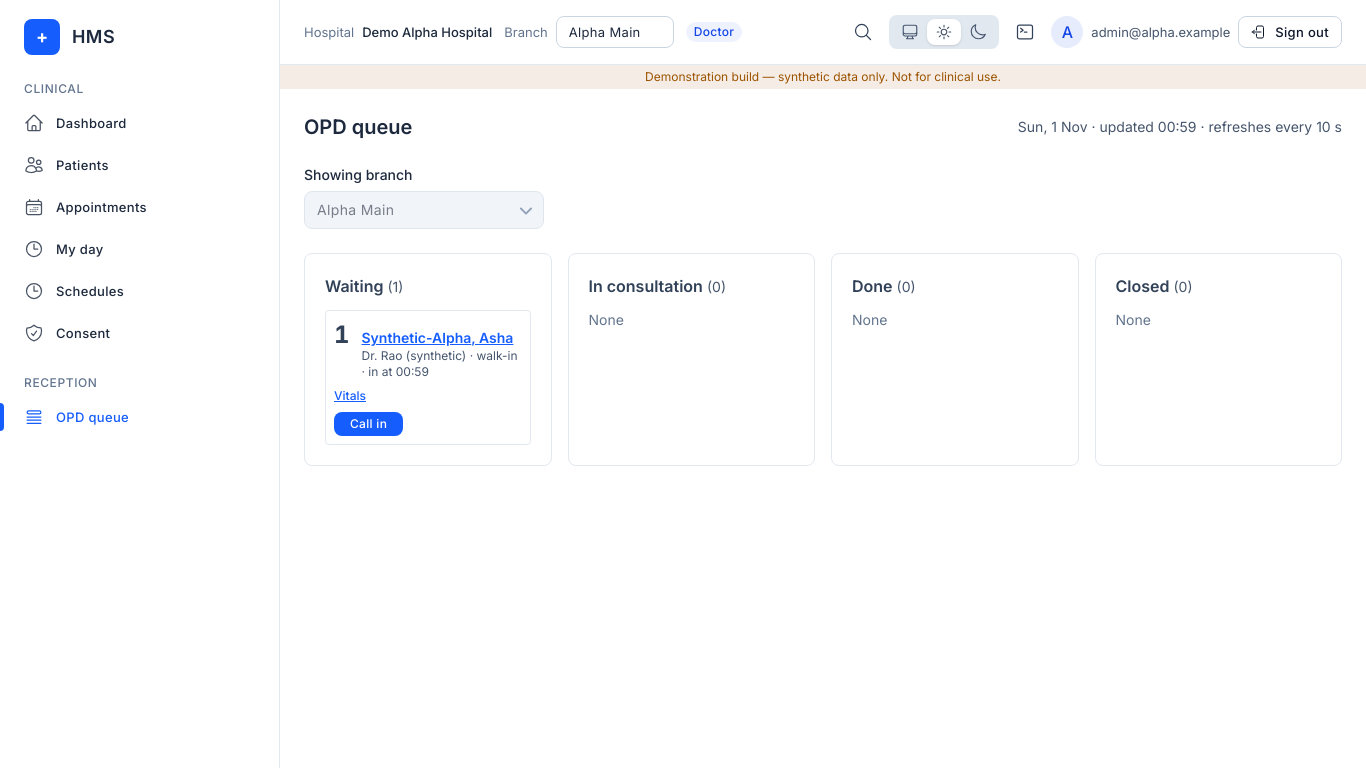
Scenario: queue board: optimistic moves › rolls the card back when the server rejects the move
Click the button with aria-label "Call in token 1".
click(369, 424)  # box [334, 412, 403, 436]
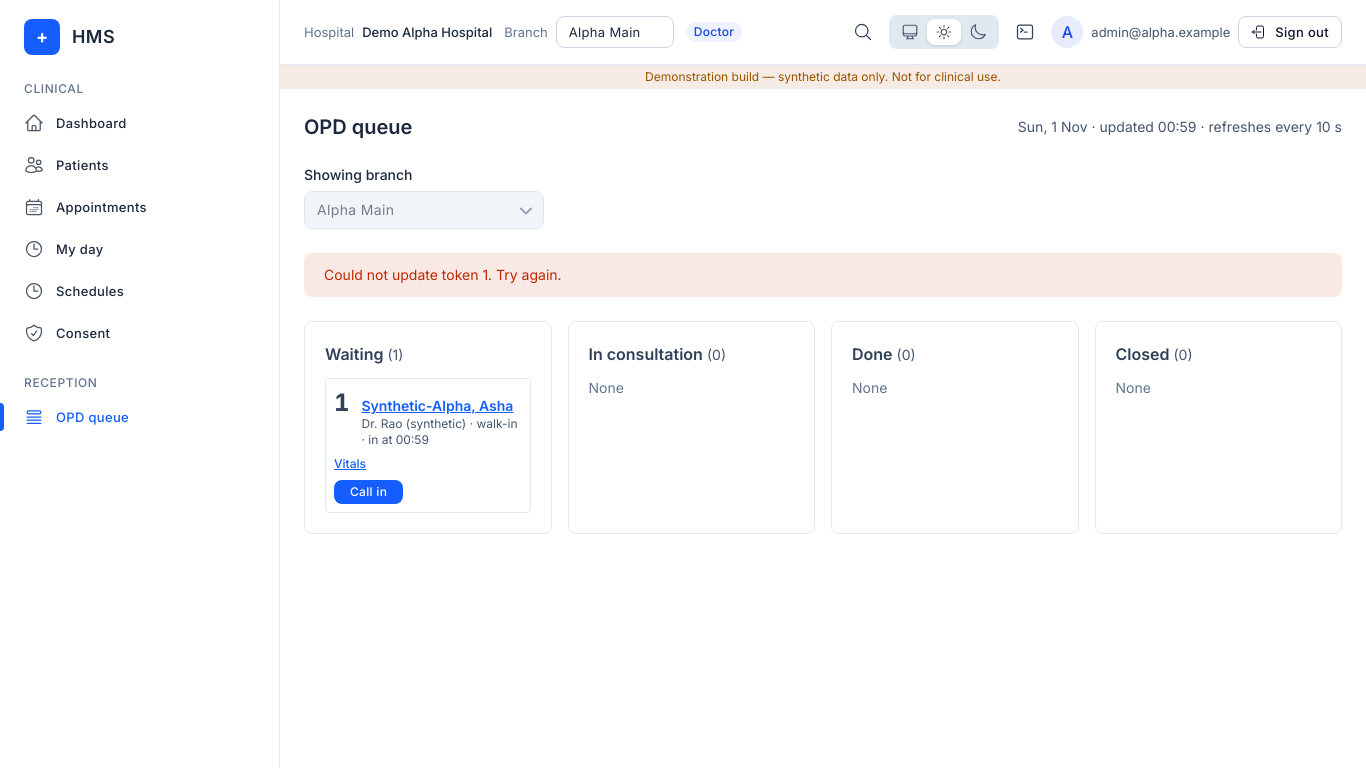
Check: the message "Could not update token 1. Try again." is shown, box [304, 253, 1342, 297]
